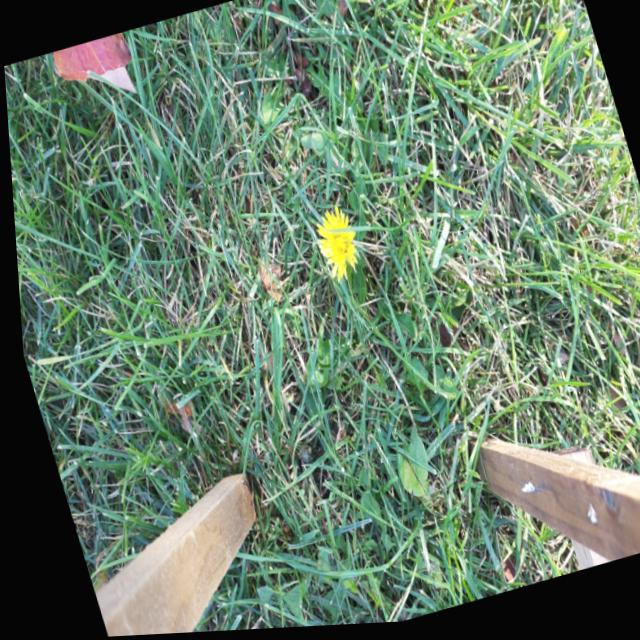flower: (306, 204, 364, 285)
